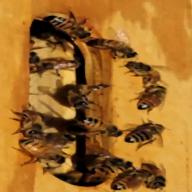Bee: (34, 8, 90, 42), (90, 38, 146, 65), (15, 138, 70, 164), (73, 114, 123, 138), (122, 120, 162, 142)
